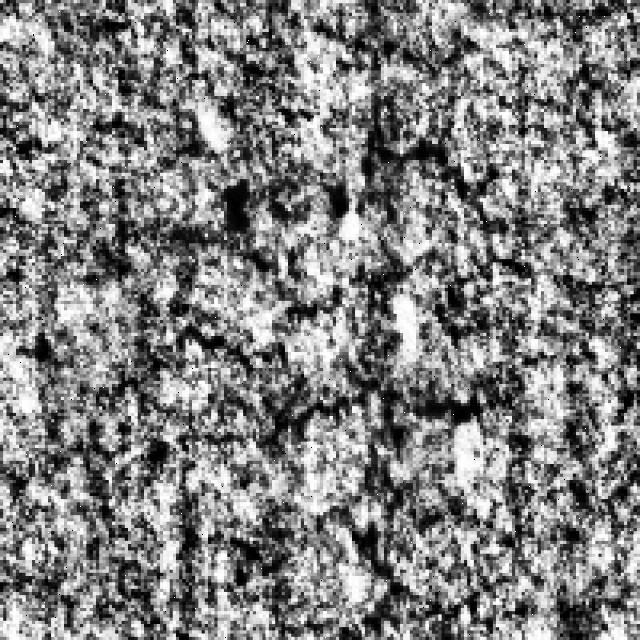Pitted_Surface: (118, 246, 541, 432), (339, 444, 522, 612), (362, 28, 522, 212)
